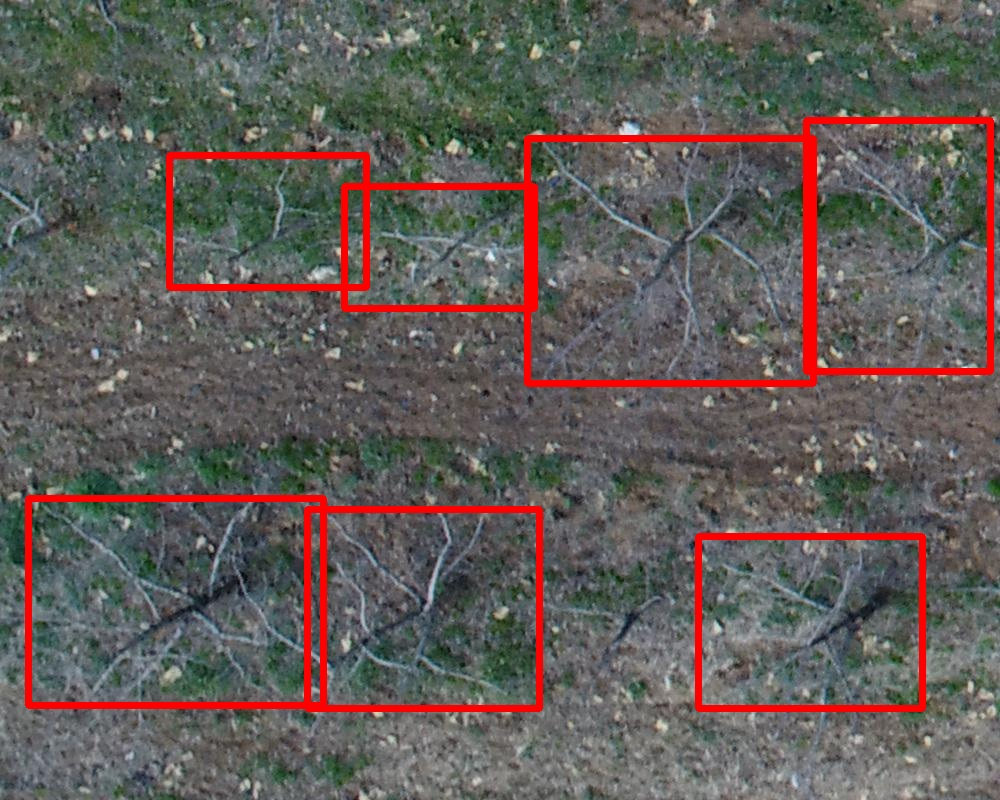apple: (527, 138, 813, 383), (28, 498, 323, 705), (806, 120, 990, 371), (307, 509, 539, 708), (698, 536, 922, 708), (169, 155, 366, 287), (344, 186, 534, 308)
